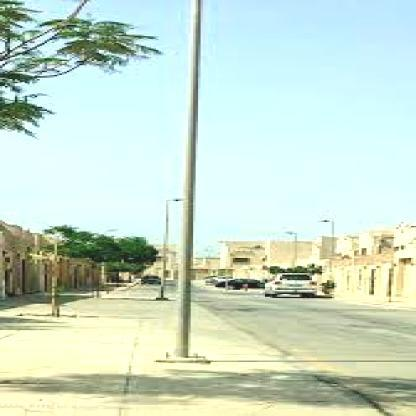light_pole: (154, 197, 181, 302), (319, 219, 337, 271)
